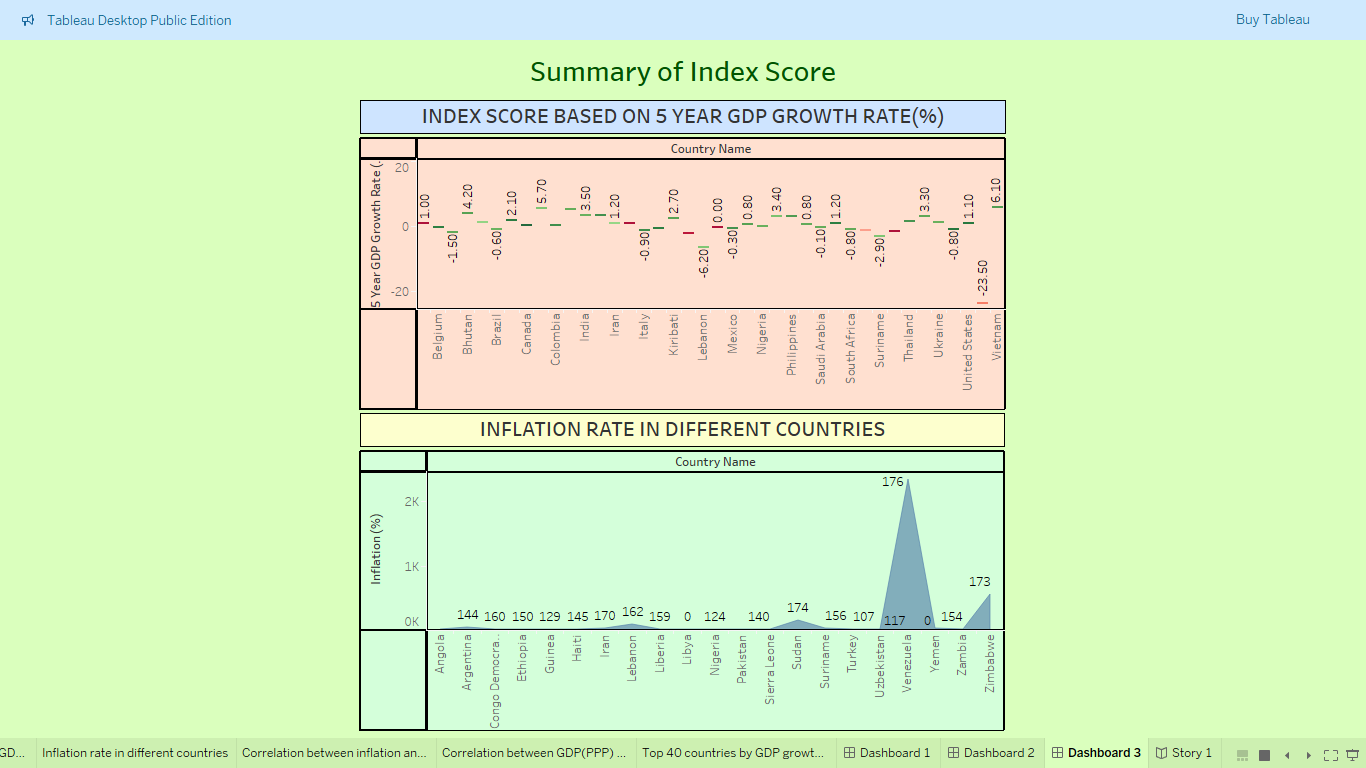

What the dashboard file says about the page in this screenshot:
{"tool":"tableau","page":{"name":"Dashboard 3","canvas":[650,860],"ordinal":2},"visuals":[{"type":"title","box":[8,12.3,634,63]},{"type":"worksheet","title":"Index score based on 5 year GDP growth rate(%)","mark":"GanttBar","rows":["5 Year GDP Growth Rate (%)"],"cols":["Country Name"],"box":[1,73.7,647,382.4]},{"type":"worksheet","title":"Inflation rate in different countries","mark":"Area","rows":["Inflation (%)"],"cols":["Country Name"],"box":[1,459.2,646,391.6]}]}

Visuals, with their boxes on the page's 650x860 design canvas (x1, y1, x2, y2). These are canvas units, not pixel positions in the 1366x768 screenshot, which may show the page scaled, cropped or inside an application window:
title: x1=8, y1=12, x2=642, y2=75
"Index score based on 5 year GDP growth rate(%)" worksheet (GanttBar marks): x1=1, y1=74, x2=648, y2=456
"Inflation rate in different countries" worksheet (Area marks): x1=1, y1=459, x2=647, y2=851
